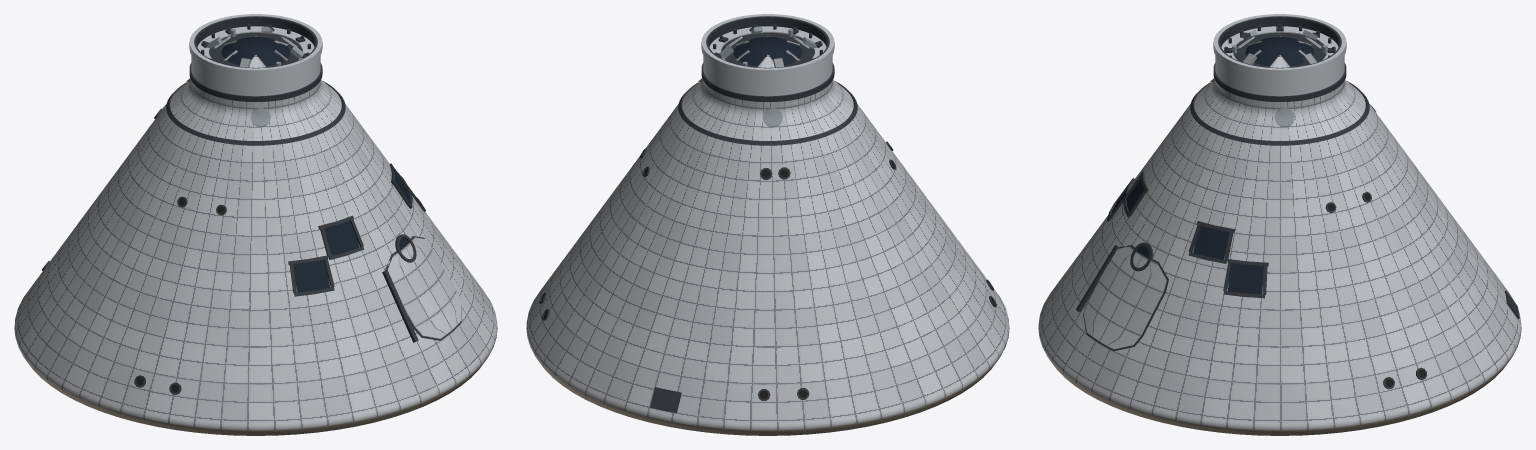
File: capsule_orion.glb
3 views of the same model, side by side, from view 1: azimuth 30°, elevation 25°; view 2: azimuth 150°, elevation 25°; view 3: azimuth 270°, elevation 25° (orthographic).
Parts seen in each view (by area): view 1: body, slot_windows__cupola, slot_docking__cbm; view 2: body, slot_windows__cupola, slot_docking__cbm; view 3: body, slot_windows__cupola, slot_docking__cbm.
Part boxes in pixels (x1,y1,x2,y2): body: (14,14,497,435); slot_windows__cupola: (221,36,290,66); slot_docking__cbm: (197,24,314,67); body: (526,14,1009,435); slot_windows__cupola: (733,36,802,66); slot_docking__cbm: (709,24,826,67); body: (1038,14,1521,435); slot_windows__cupola: (1245,36,1314,66); slot_docking__cbm: (1221,24,1338,64).
Bounding box in the file's own units: 3.36 × 2.25 × 3.36.
Materials: 21 (1 with a texture image).
